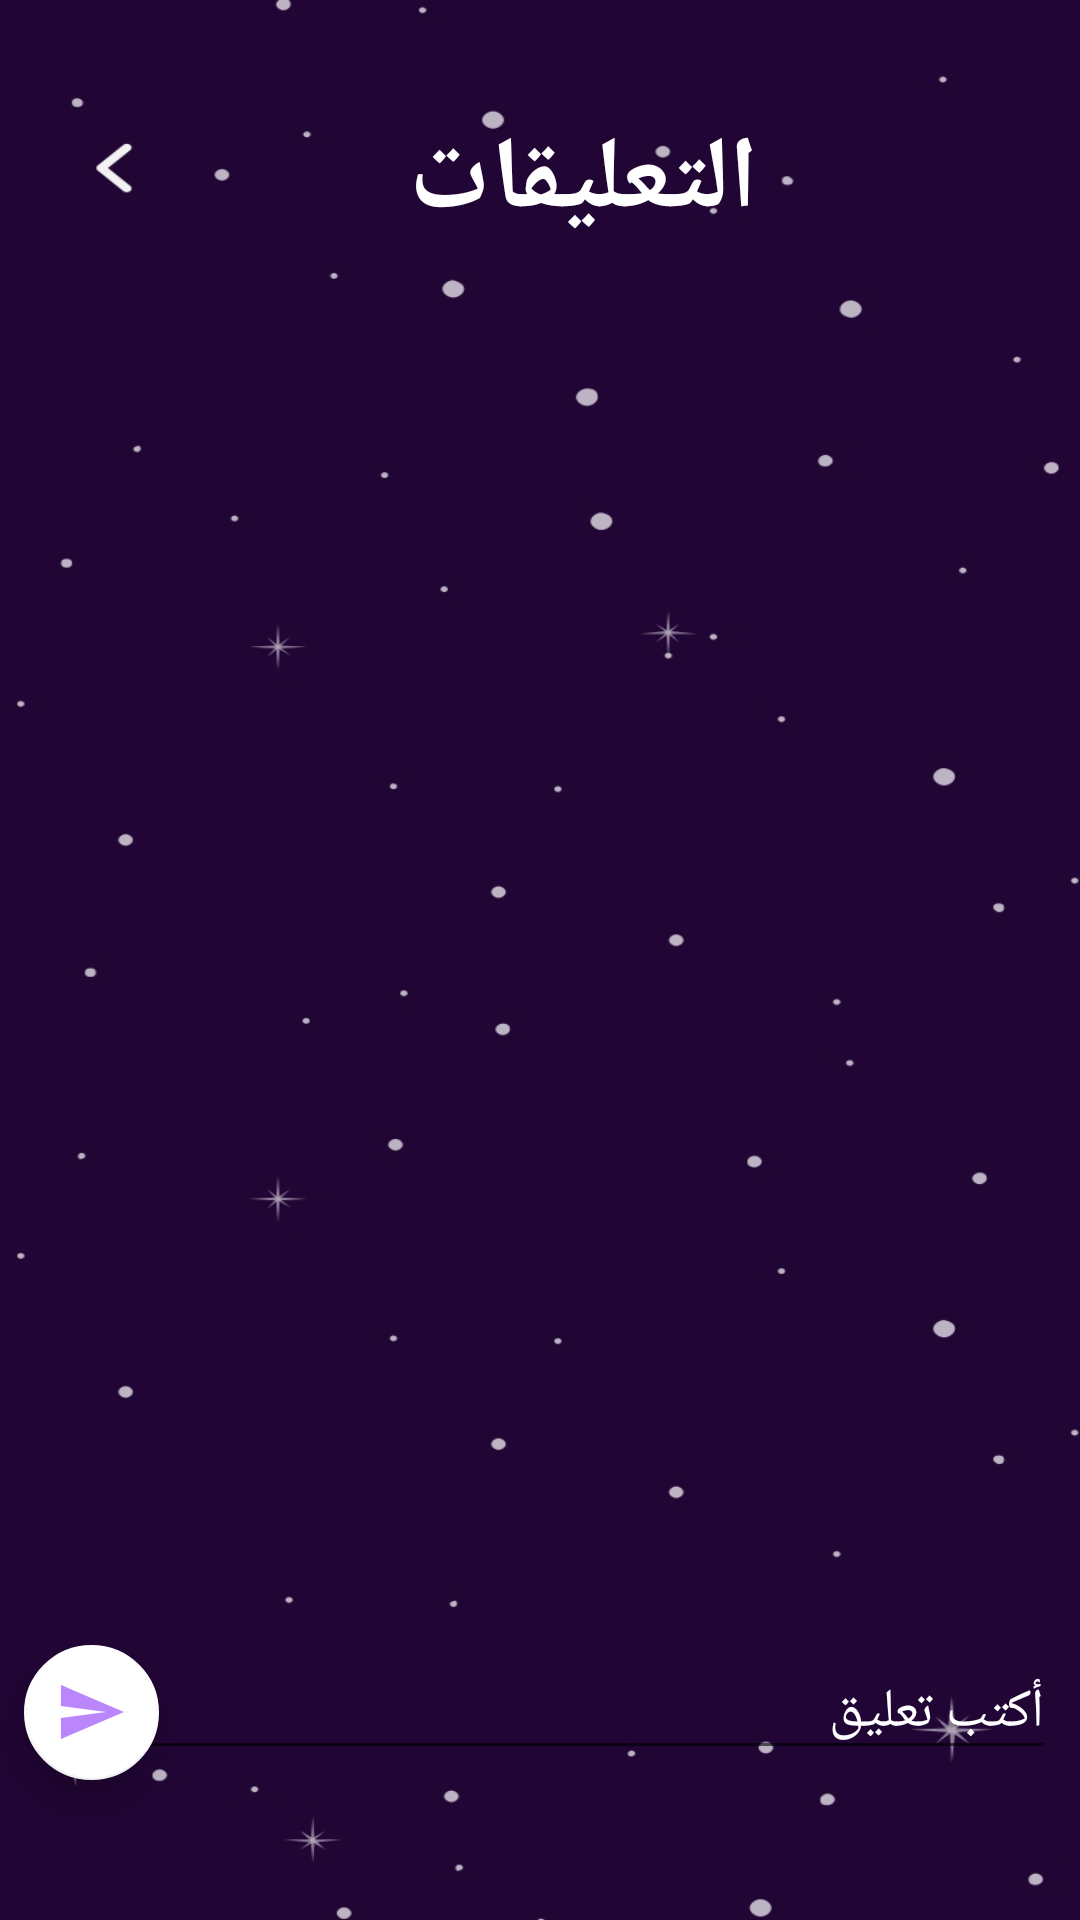

Icon bounding boxes for this 1080*1920 phone screenshot, format (x1, y1, x2, y2):
send: (24, 1645, 159, 1780)
